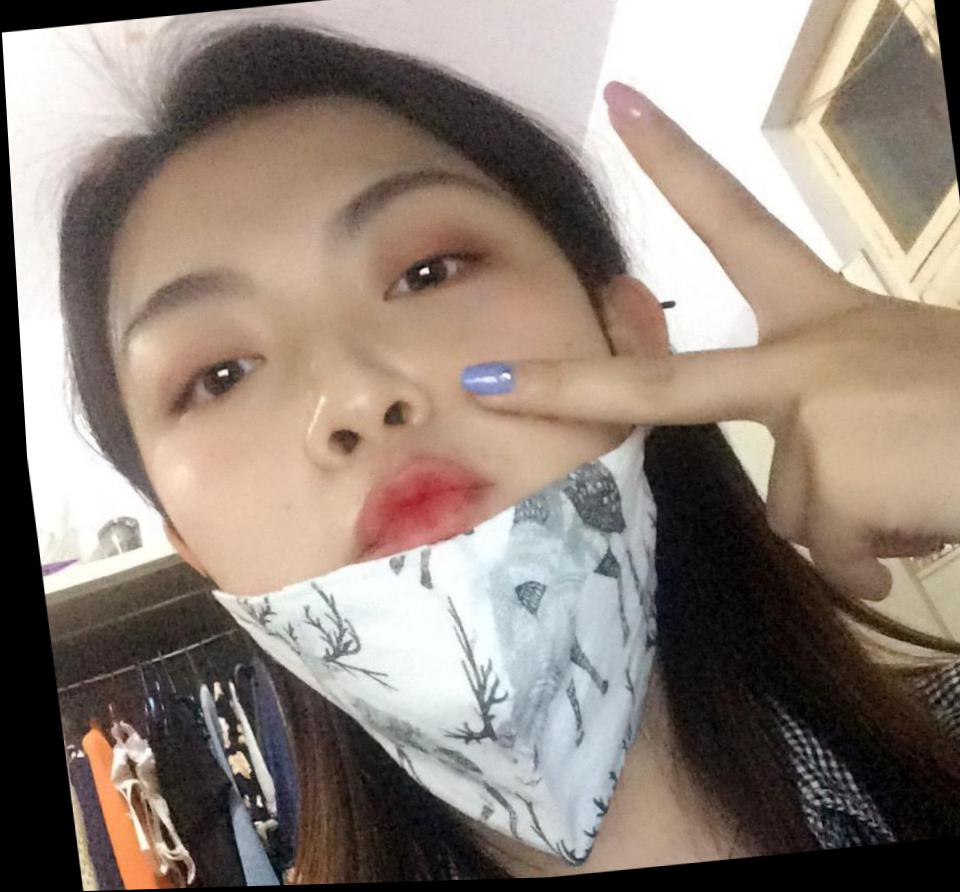WRONG: (98, 141, 681, 772)
